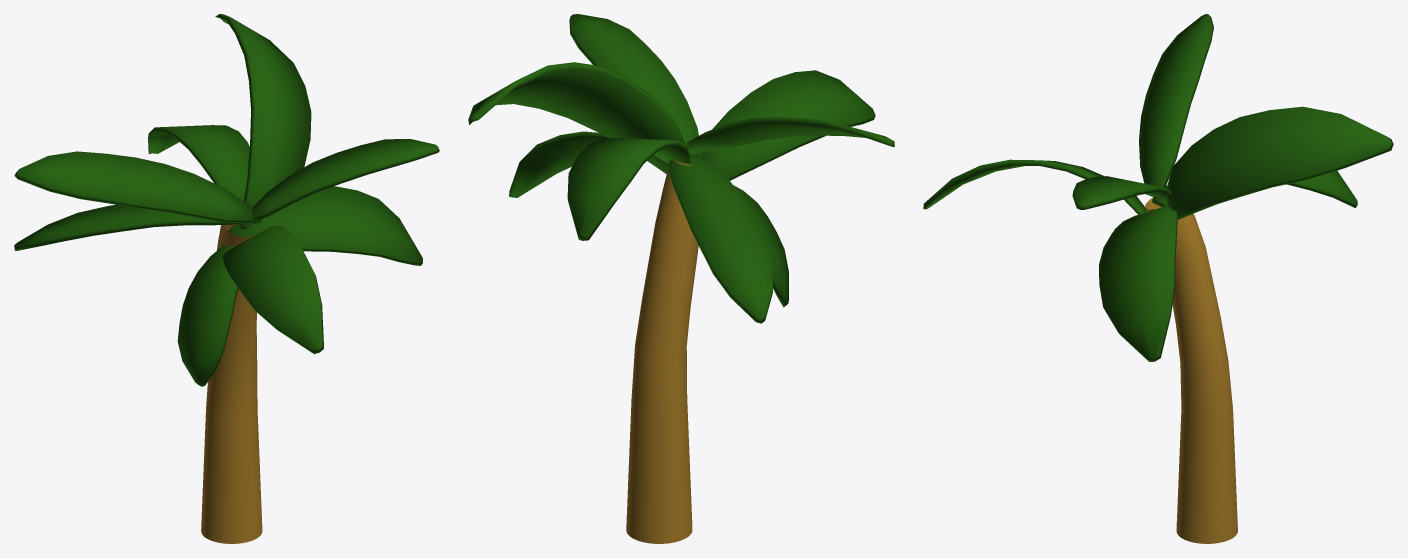
The model's file is SabalPalm2.fbx.
3 views of the same model, side by side, from view 1: azimuth 30°, elevation 25°; view 2: azimuth 150°, elevation 25°; view 3: azimuth 270°, elevation 25° (orthographic). The views are drawn at different scales.
Visible parts, largest first — view 1: PalmTree3; view 2: PalmTree3; view 3: PalmTree3.
Boxes of the visible parts, box(x1,y1,x2,y2) form: PalmTree3: box(14, 14, 439, 543); PalmTree3: box(468, 14, 894, 543); PalmTree3: box(923, 14, 1393, 543).
Size of the model in its own units: 12227 by 13841 by 13071.
Materials: 1 (1 with a texture image).
